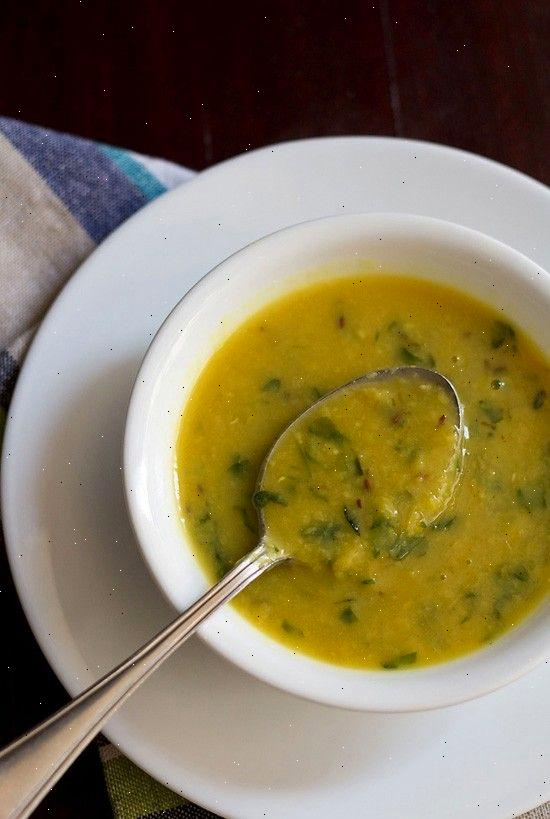daal: (173, 285, 550, 692)
